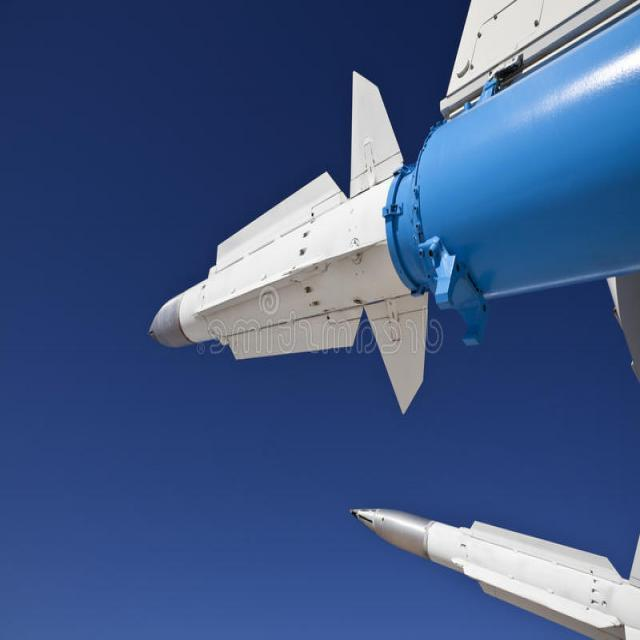missile: (149, 74, 430, 433), (344, 503, 640, 640)
